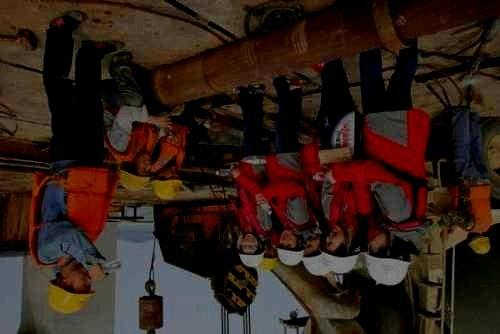helmet: (46, 260, 98, 316), (363, 230, 413, 286), (319, 225, 360, 274), (118, 150, 152, 192), (301, 237, 332, 277), (152, 164, 183, 200), (277, 229, 305, 267), (238, 233, 265, 268), (467, 231, 491, 255), (258, 247, 279, 271)
